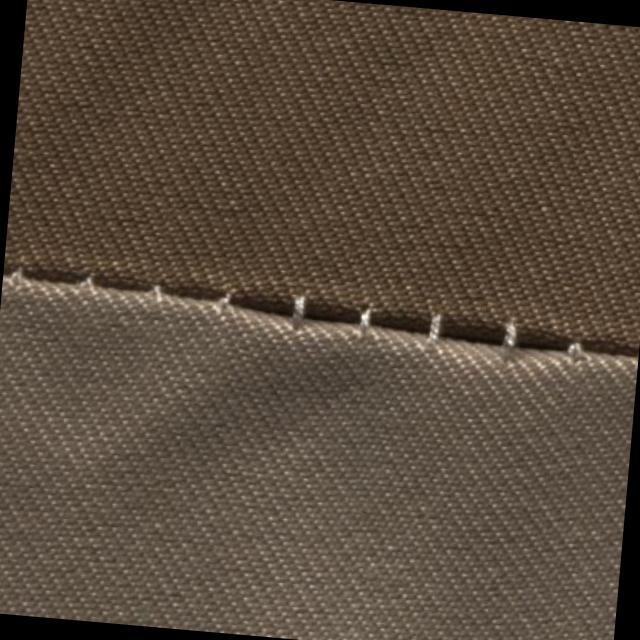gray stitch: (4, 242, 592, 376)
